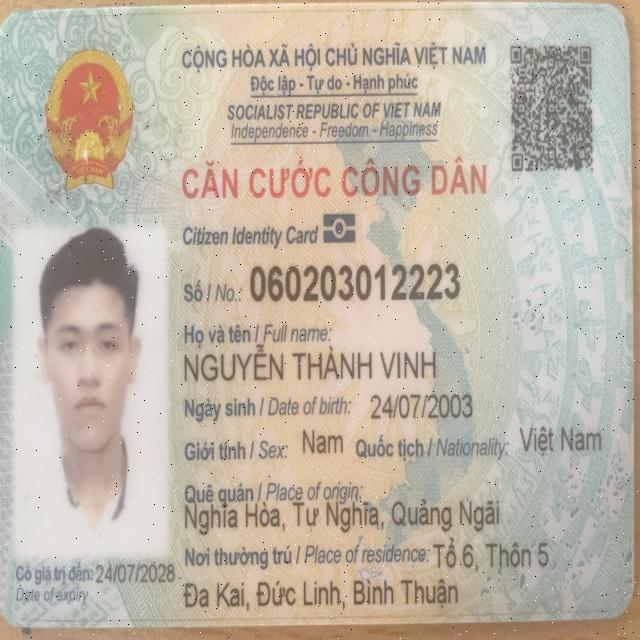current_place: (183, 573, 463, 613), (434, 534, 552, 575)
dob: (367, 388, 475, 420)
expire_date: (92, 562, 176, 589)
gender: (299, 427, 346, 458)
id: (247, 256, 459, 305)
name: (183, 343, 444, 390)
nationality: (517, 424, 605, 459)
origin_place: (179, 498, 503, 538)
